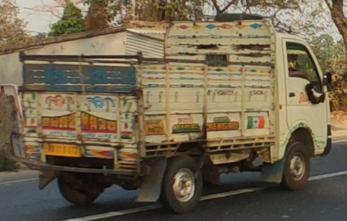Truck: (16, 18, 333, 215)
